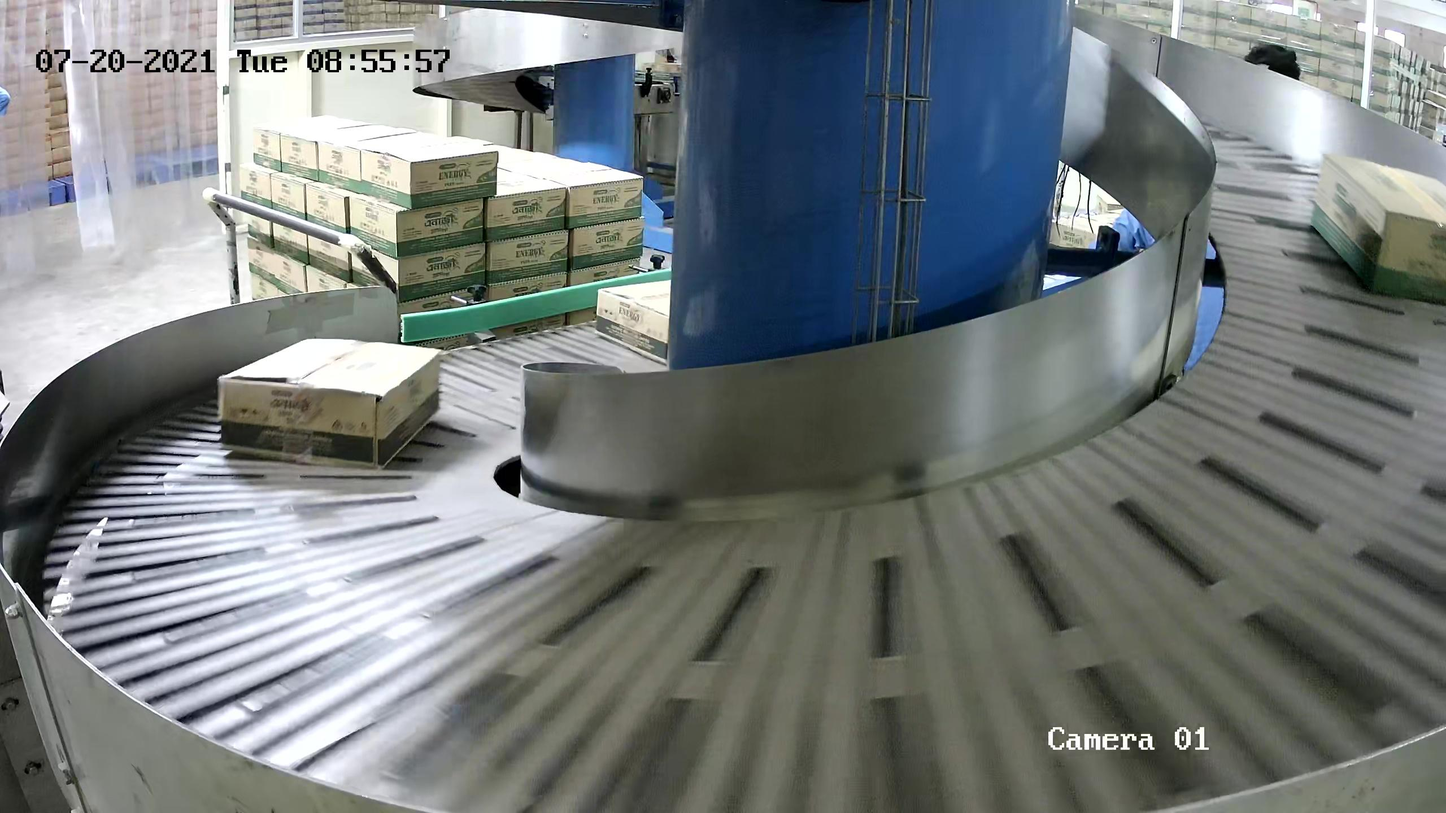Box: (214, 336, 444, 473), (1311, 152, 1446, 309), (597, 265, 754, 368)
